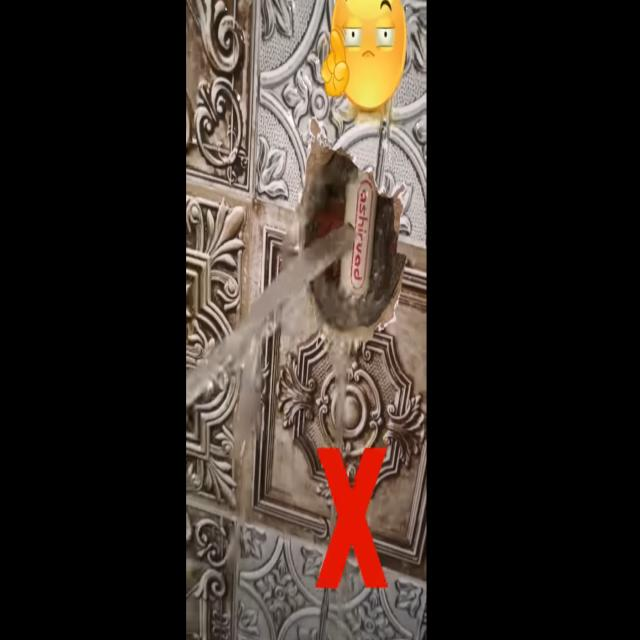leak: (186, 224, 354, 409)
